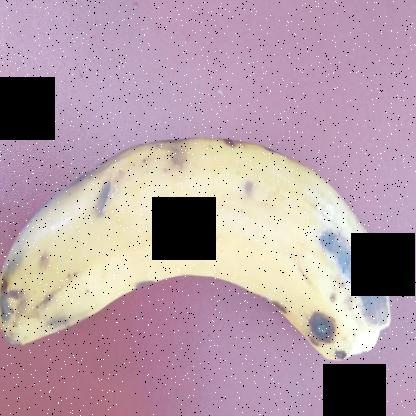ripe: (1, 119, 397, 415)
